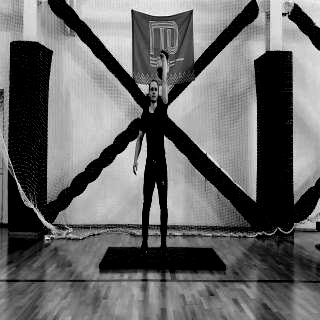kettlebell: (156, 50, 171, 81)
